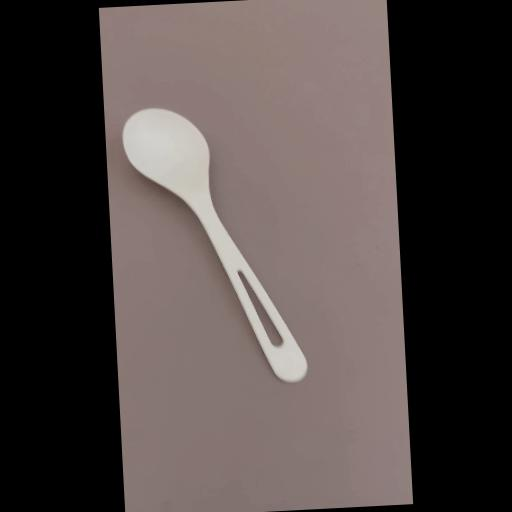utensil: (118, 96, 312, 390)
